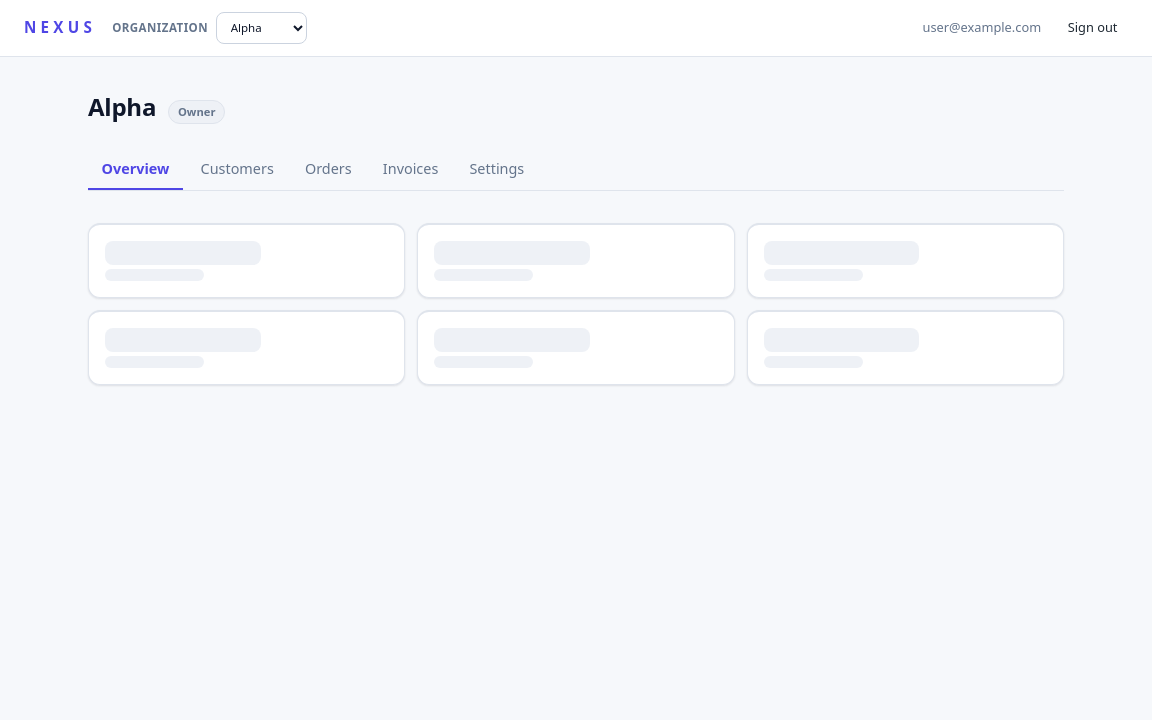
Test: switching organization never shows the previous organization while the new list is loading
Step 1. Click the button "Invoices" → (411, 169), box [369,149,452,190]
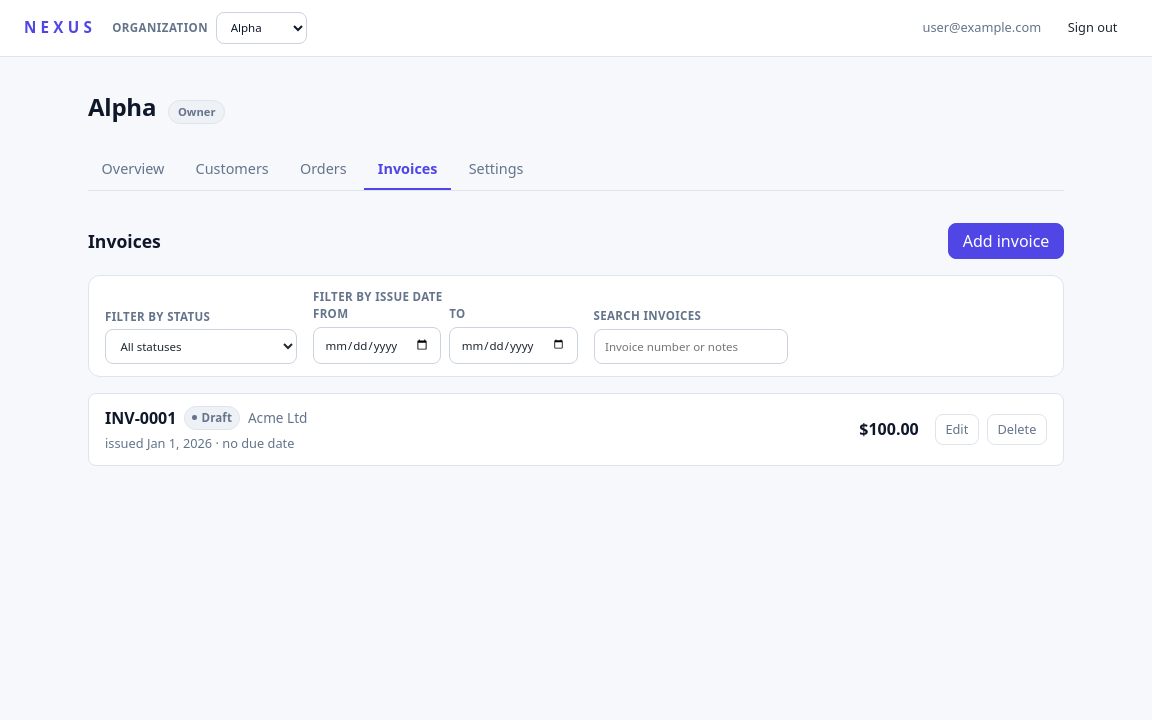
Result: the text "INV-0001" is shown at [105,406,176,430]
Step 2. Select "Beta" in the dropdown labelled "Organization" → (262, 28), box [216,12,307,44]
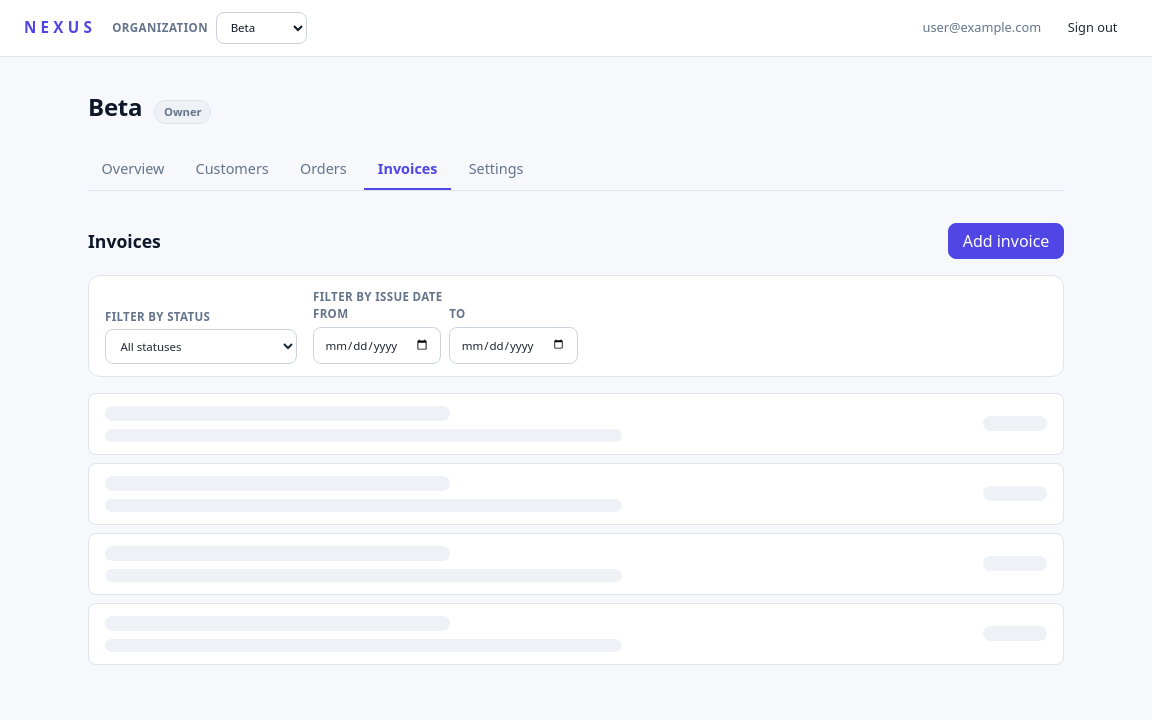
Result: the text "INV-0001" is gone
